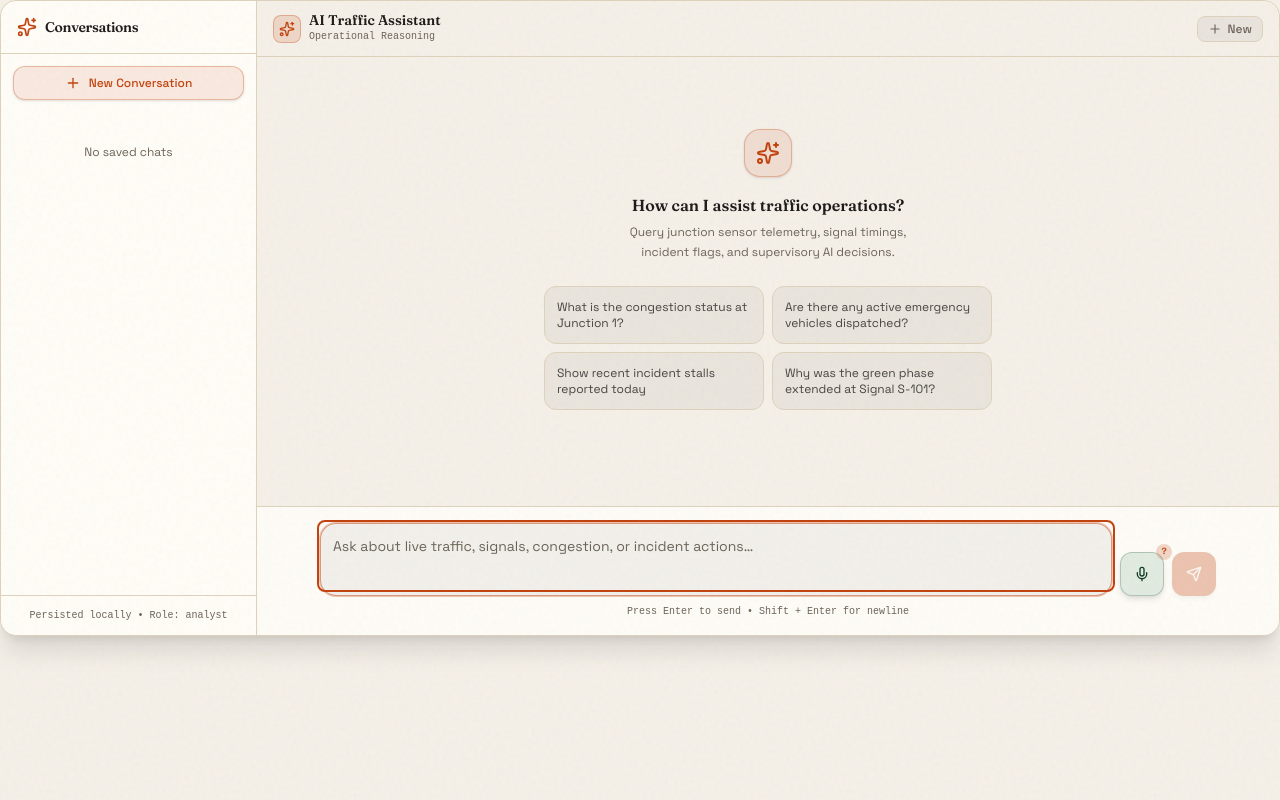
Test case: AssistantChat Component (assistant.test.tsx) › handles 403 error: displays permission-restriction panel naming user's role
The image size is (1280, 800).
Replace the text in the text box with test id "assistant-composer-textarea" with "Override Signal 12": (716, 556) [321,524,1111,588]
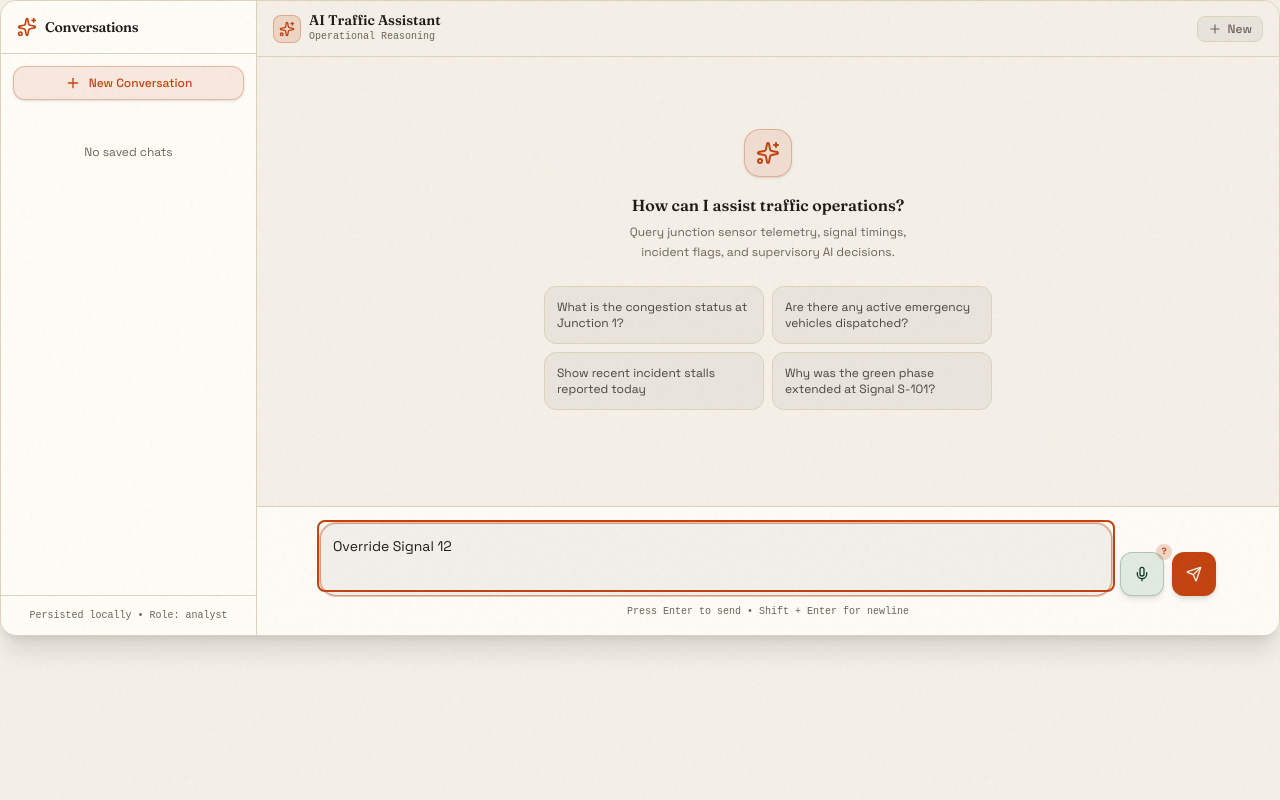
Click the button with test id "assistant-send-button": (1194, 574) [1172,552,1216,596]
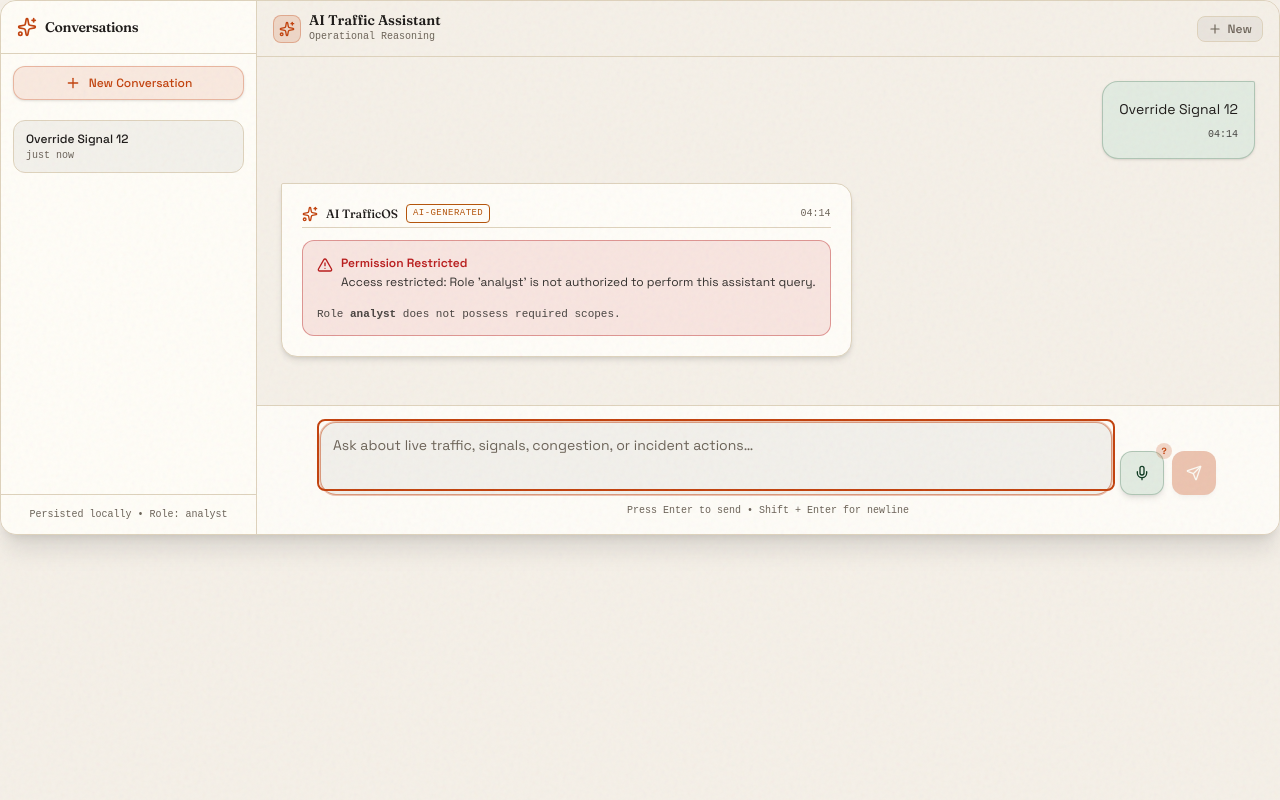
Expected: the text "Permission Restricted" is shown, [341,255,468,271]
Expected: the text "Role 'analyst' is not authorized" is shown, [341,274,816,290]
